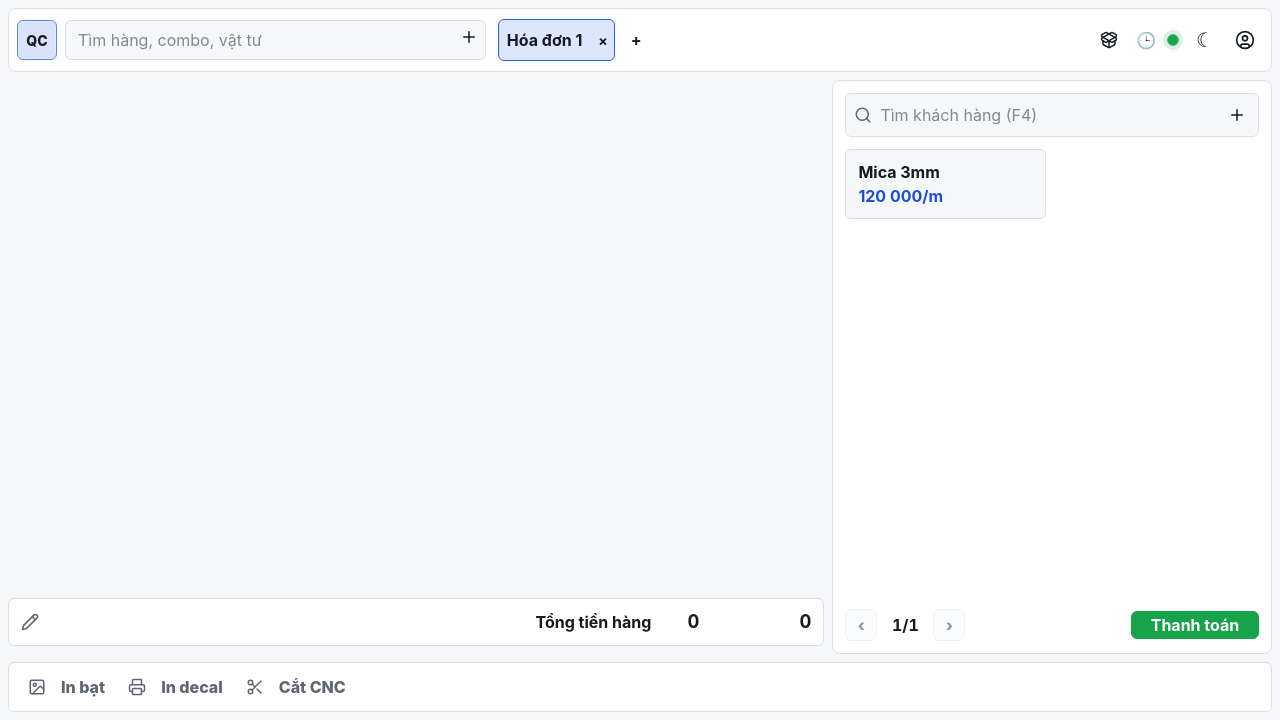
Test: opens quick material opening prefilled for one supported shortage and rechecks preview after submit
Click the button "Mica 3mm 120 000/m" at coordinates (946, 184), box [845,149,1046,219]
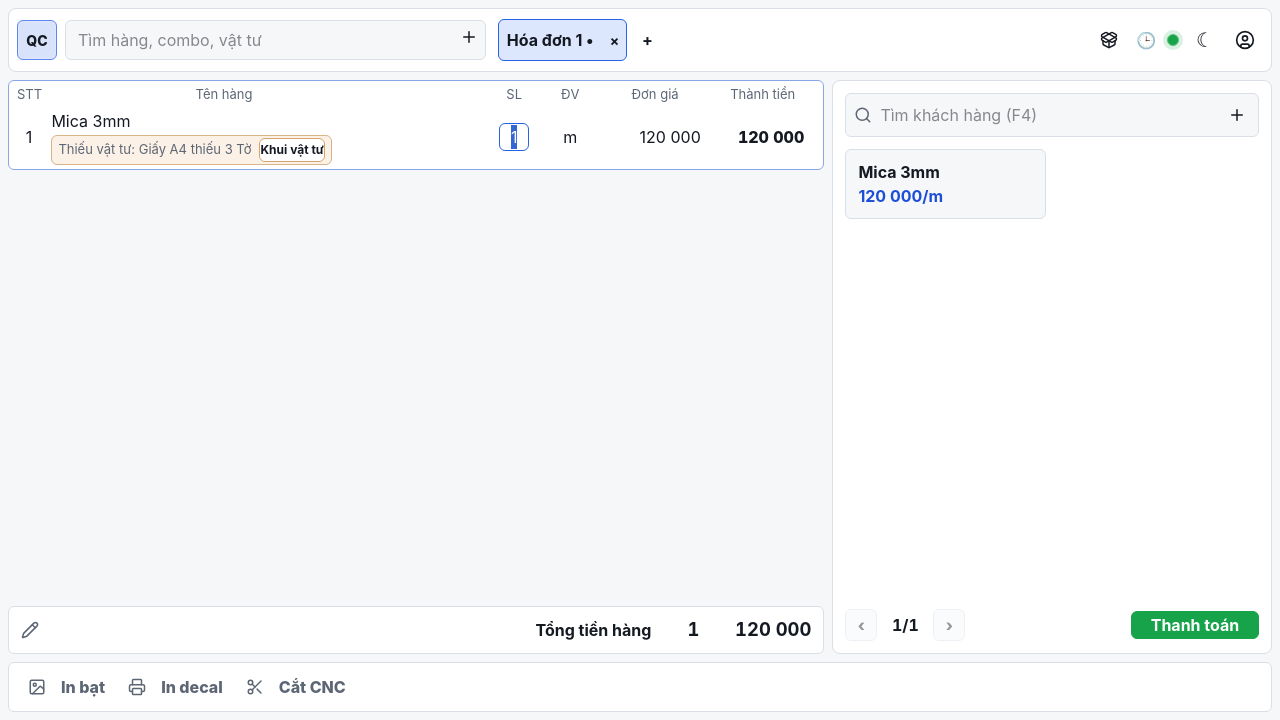
Expected: the text "Thiếu vật tư: Giấy A4 thiếu 3 Tờ" is shown, [58,141,252,157]
Click the button with aria-label "Khui vật tư Mica 3mm" at coordinates (292, 150), box [260,138,325,162]
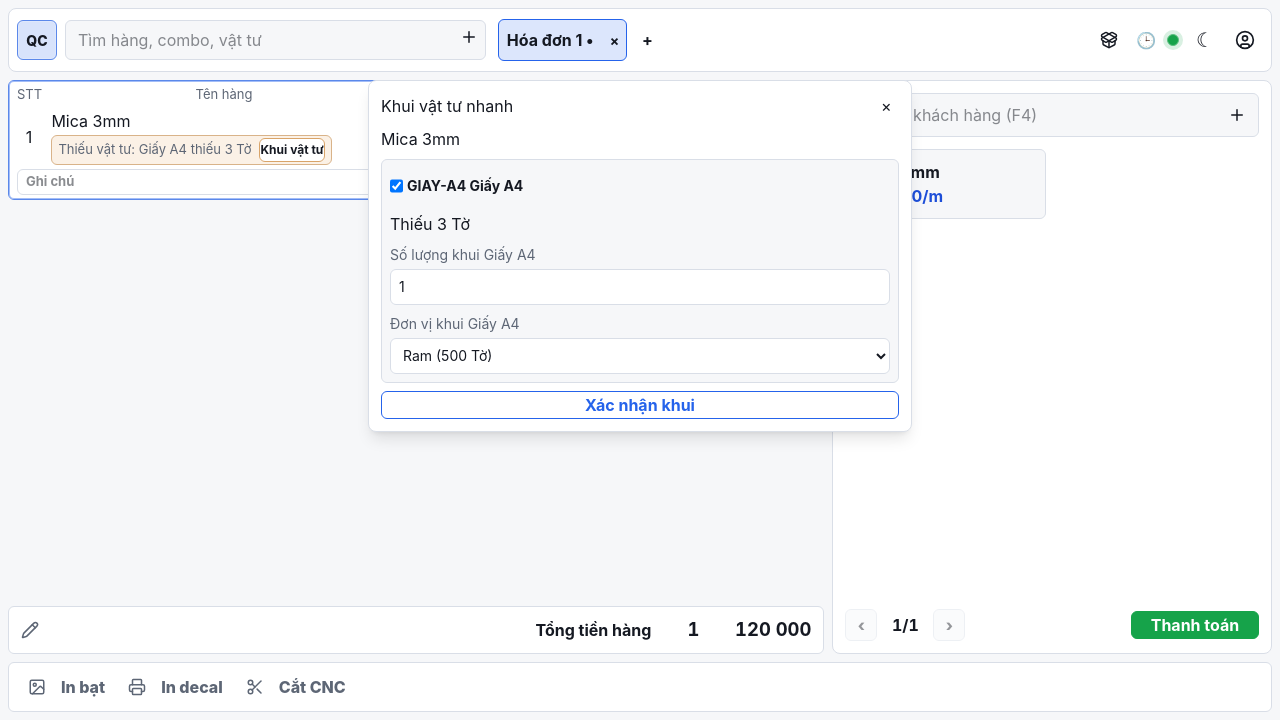
Expected: the text "GIAY-A4 Giấy A4" is shown, [407,175,523,196]
Expected: the checkbox named "Chọn Giấy A4" is checked, [390,168,403,204]
Expected: the number field labelled "Số lượng khui Giấy A4" holds "1", [390,269,890,305]
Click the button "Xác nhận khui" at coordinates (640, 405), box [381,391,899,419]
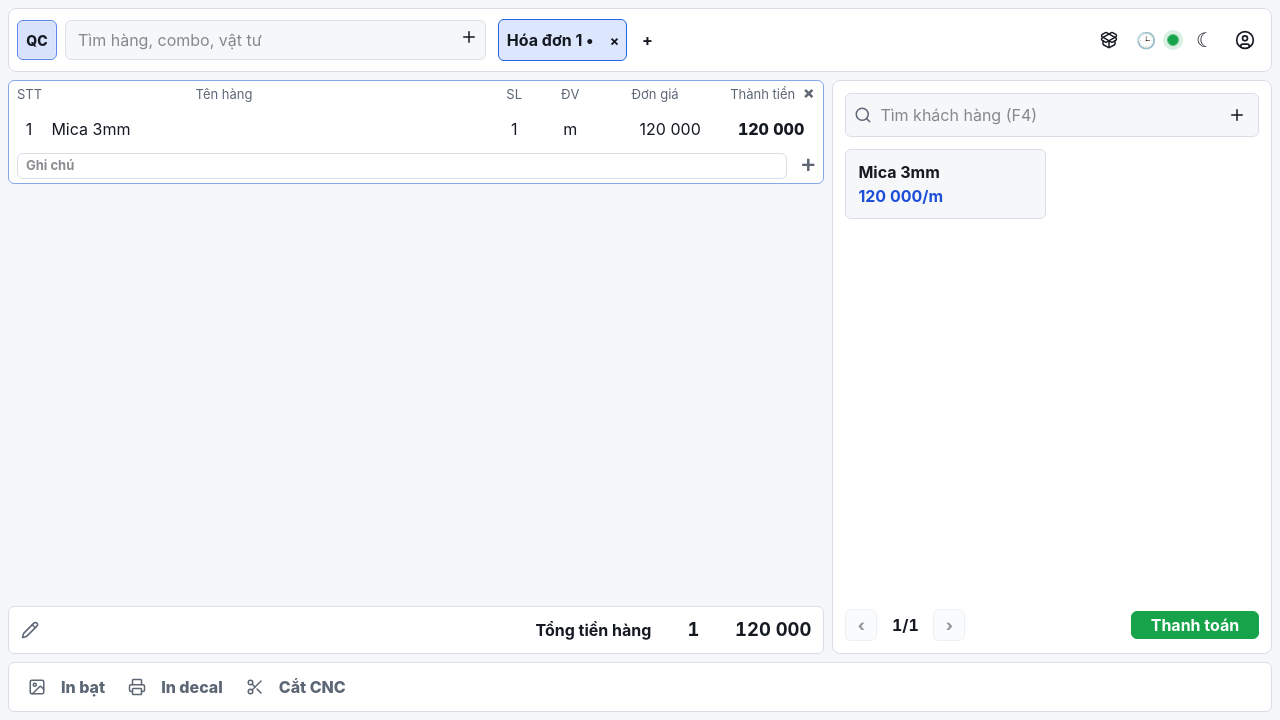
Expected: the heading "Khui vật tư nhanh" is gone
